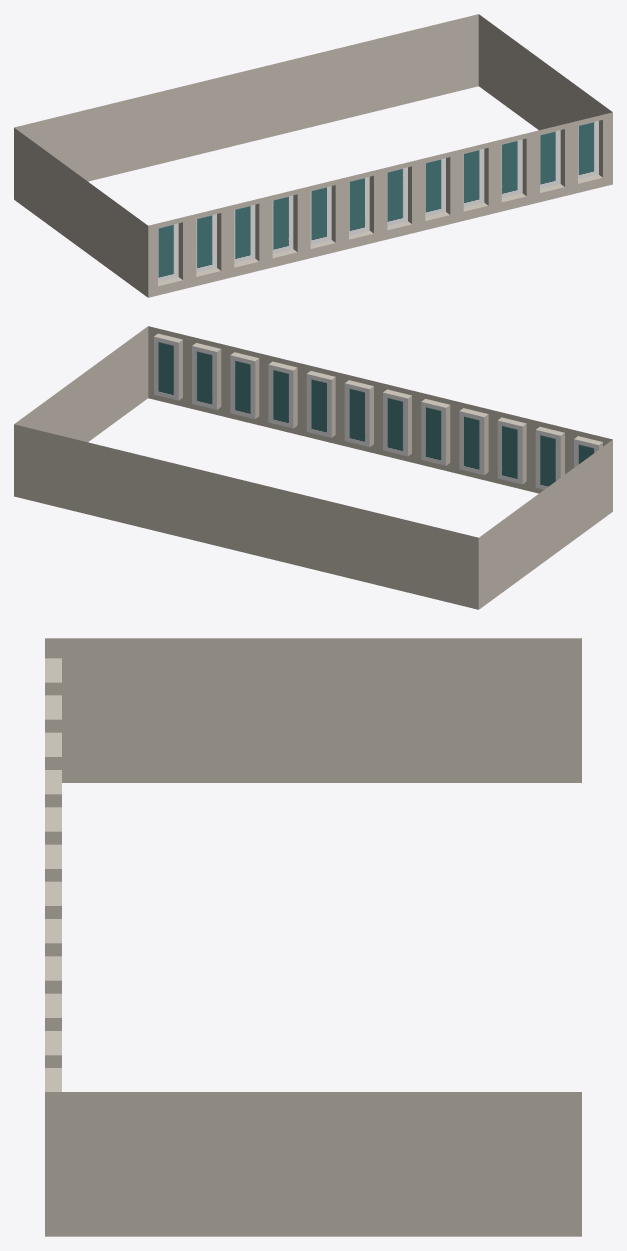
Rendered from Town_Bld-Lrg_FloorC.FBX.
3 views of the same model, one above another, from view 1: azimuth 30°, elevation 25°; view 2: azimuth 150°, elevation 25°; view 3: azimuth 270°, elevation 25° (orthographic). The views are drawn at different scales.
Visible parts, largest first — view 1: Town_Bld-Lrg_FloorC; view 2: Town_Bld-Lrg_FloorC; view 3: Town_Bld-Lrg_FloorC.
Part boxes in pixels (<box>): Town_Bld-Lrg_FloorC: <box>14,14,612,297</box>; Town_Bld-Lrg_FloorC: <box>14,326,612,609</box>; Town_Bld-Lrg_FloorC: <box>45,638,581,1236</box>.
Size of the model in its own units: 1200 by 178 by 600.
